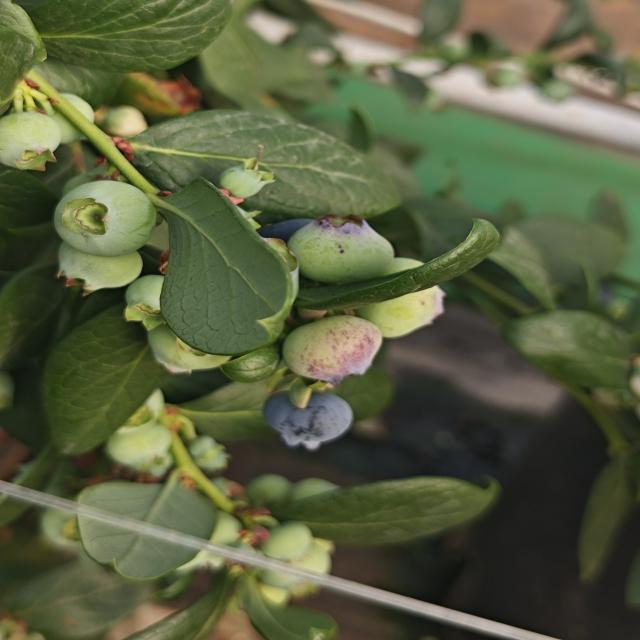ripe: (256, 379, 358, 450), (256, 210, 330, 244)
